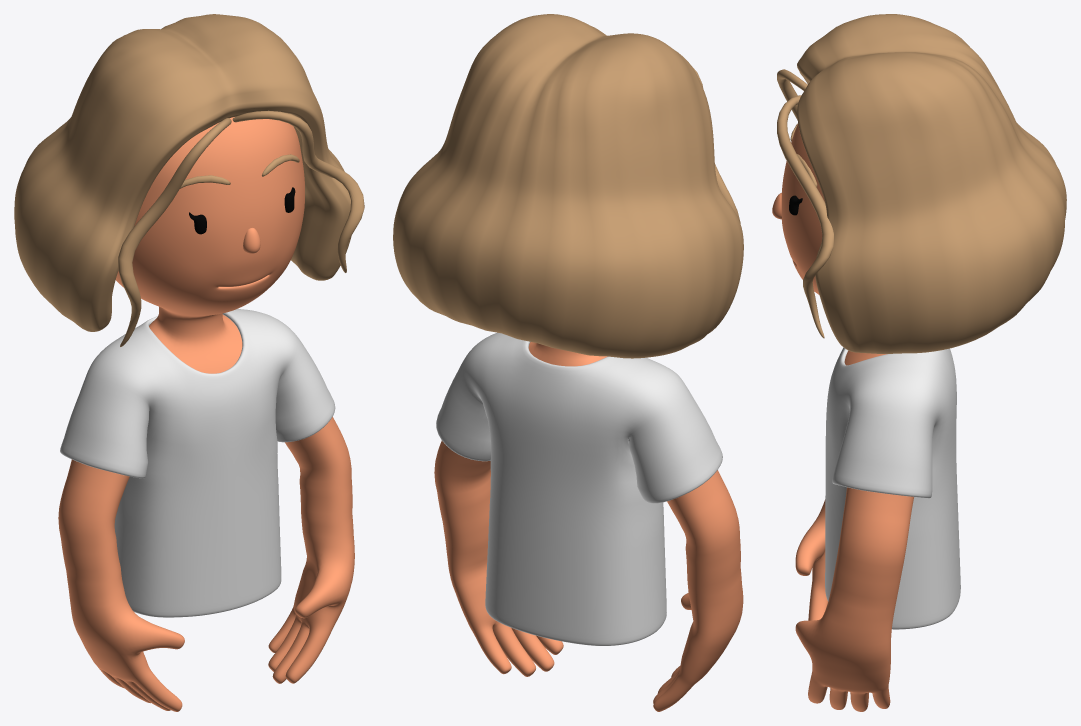
3 renders of one model, left to right at view 1: azimuth 30°, elevation 25°; view 2: azimuth 150°, elevation 25°; view 3: azimuth 270°, elevation 25°, orthographic. The views are drawn at different scales.
Visible parts, largest first — view 1: Hair_10, T-shirt, head, body, Eyebrow.004; view 2: Hair_10, T-shirt, body, head; view 3: Hair_10, T-shirt, body, head.
Part boxes in pixels (x1,y1,x2,y2): Hair_10: (14, 14, 364, 346); T-shirt: (60, 309, 335, 617); head: (115, 117, 304, 373); body: (58, 417, 354, 711); Eyebrow.004: (180, 154, 299, 188); Hair_10: (393, 14, 743, 358); T-shirt: (436, 332, 722, 645); body: (434, 440, 743, 711); head: (528, 342, 607, 366); Hair_10: (777, 14, 1066, 353); T-shirt: (825, 347, 960, 629); body: (795, 487, 913, 711); head: (781, 123, 887, 365).
Bounding box in the file's own units: 6.35 × 13.37 × 5.56.
